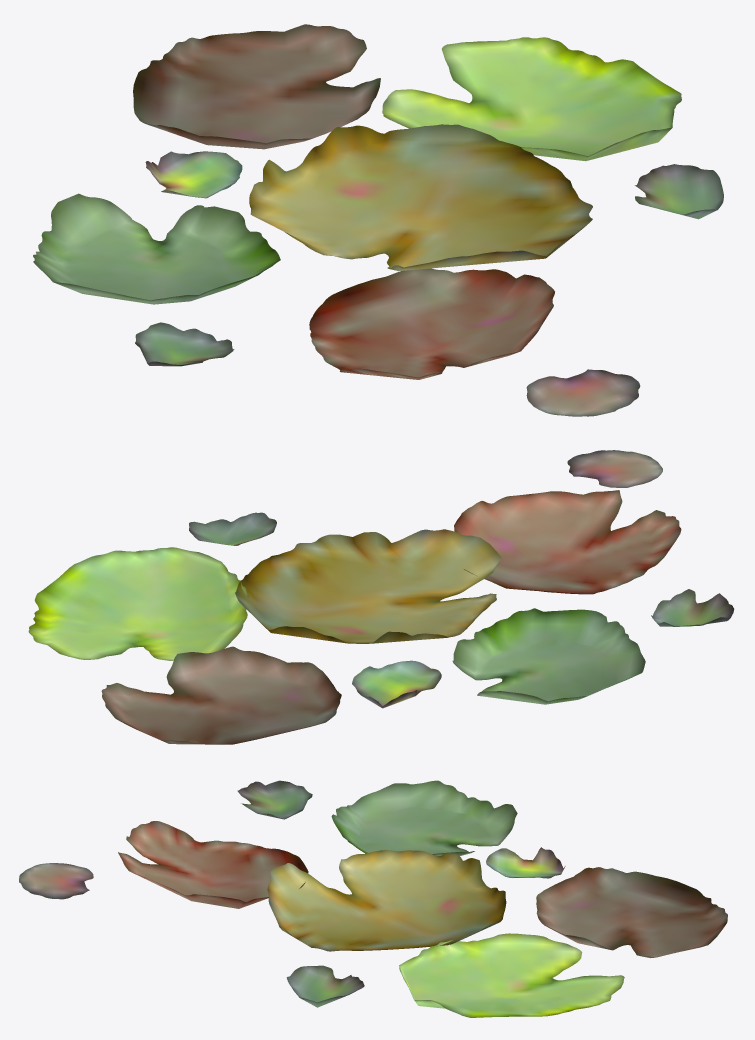
Rendered from Model_WaterPlant_03.fbx.
3 views of the same model, one above another, from view 1: azimuth 30°, elevation 25°; view 2: azimuth 150°, elevation 25°; view 3: azimuth 270°, elevation 25° (orthographic). The views are drawn at different scales.
Visible parts, largest first — view 1: WaterPlant_03; view 2: WaterPlant_03; view 3: WaterPlant_03.
Part boxes in pixels (left/top/right/bottom): WaterPlant_03: left=33, top=24, right=723, bottom=416; WaterPlant_03: left=28, top=450, right=734, bottom=744; WaterPlant_03: left=19, top=780, right=727, bottom=1017.
Bounding box in the file's own units: 75.24 × 6.31 × 93.76.
